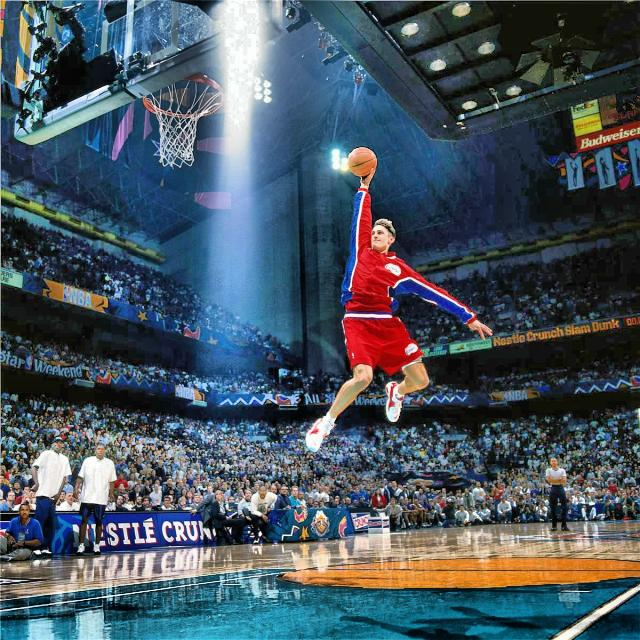board: (348, 148, 377, 176)
rim: (145, 73, 225, 168)
